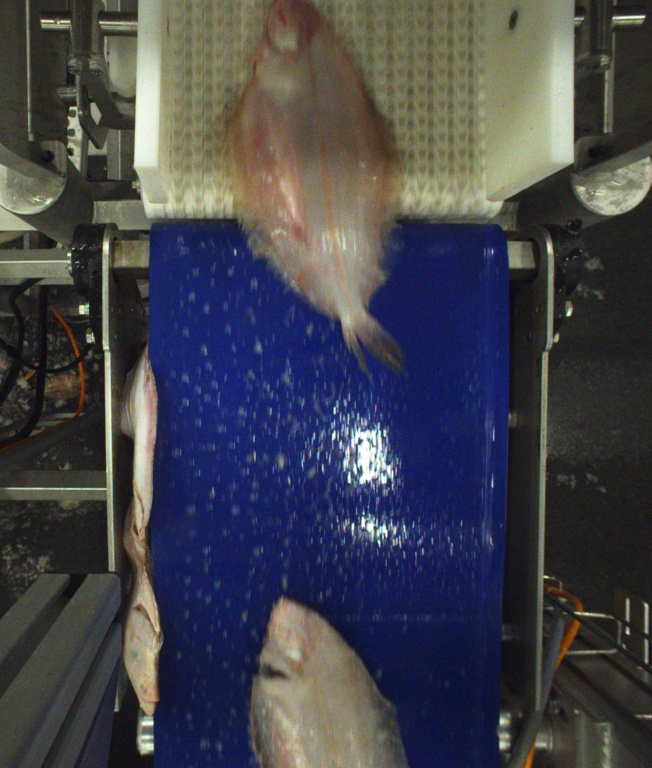WIT: (218, 0, 406, 374)
